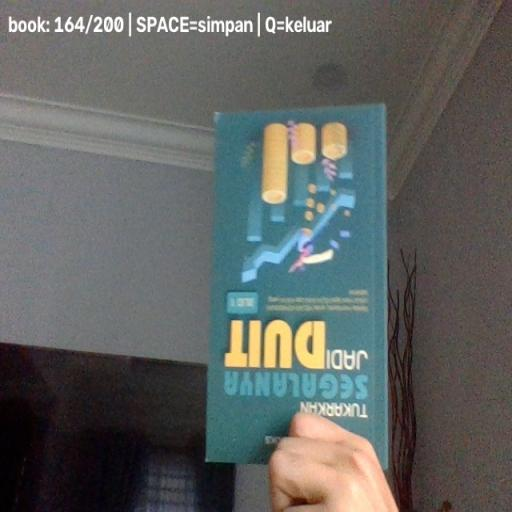Book: (204, 102, 389, 472)
